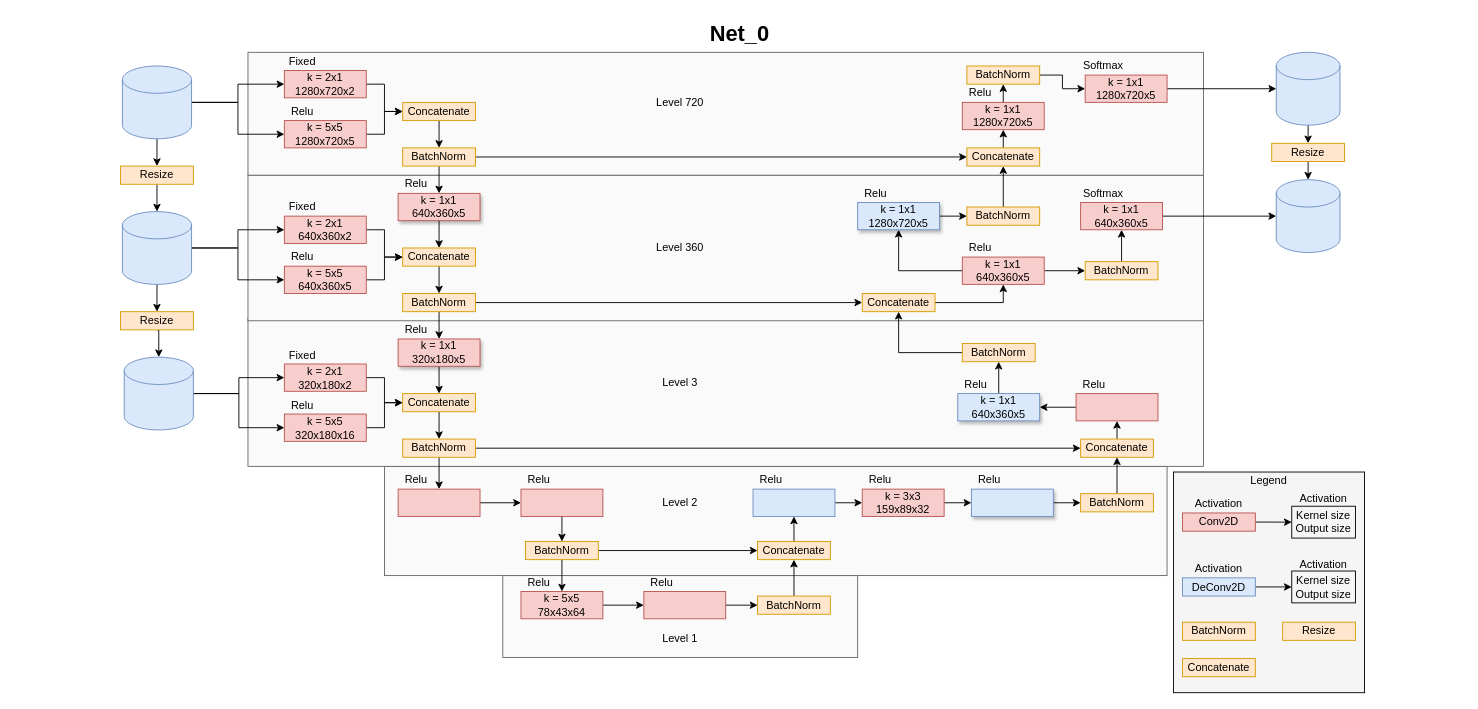
Image size: 1478x709. Some labels were removed from this diagram. The shapes that lost their labels are listed below. From the top down, each one's centre as x and y in pixels, then its label:
the point at 156,102: Image 1280x720x3
the point at 1307,88: Mask 1280x720x5
the point at 1307,216: Mask 640x360x5
the point at 156,247: Image 640x360x3
the point at 158,393: Image 320x180x3
the point at 1116,407: k = 1x1 320x180x16
the point at 438,502: k = 5x5 159x89x32
the point at 561,502: k = 3x3 159x89x64
the point at 793,502: k = 5x5 159x89x64
the point at 1013,504: k = 5x5 320x180x32
the point at 684,605: k = 3x3 78x43x128
